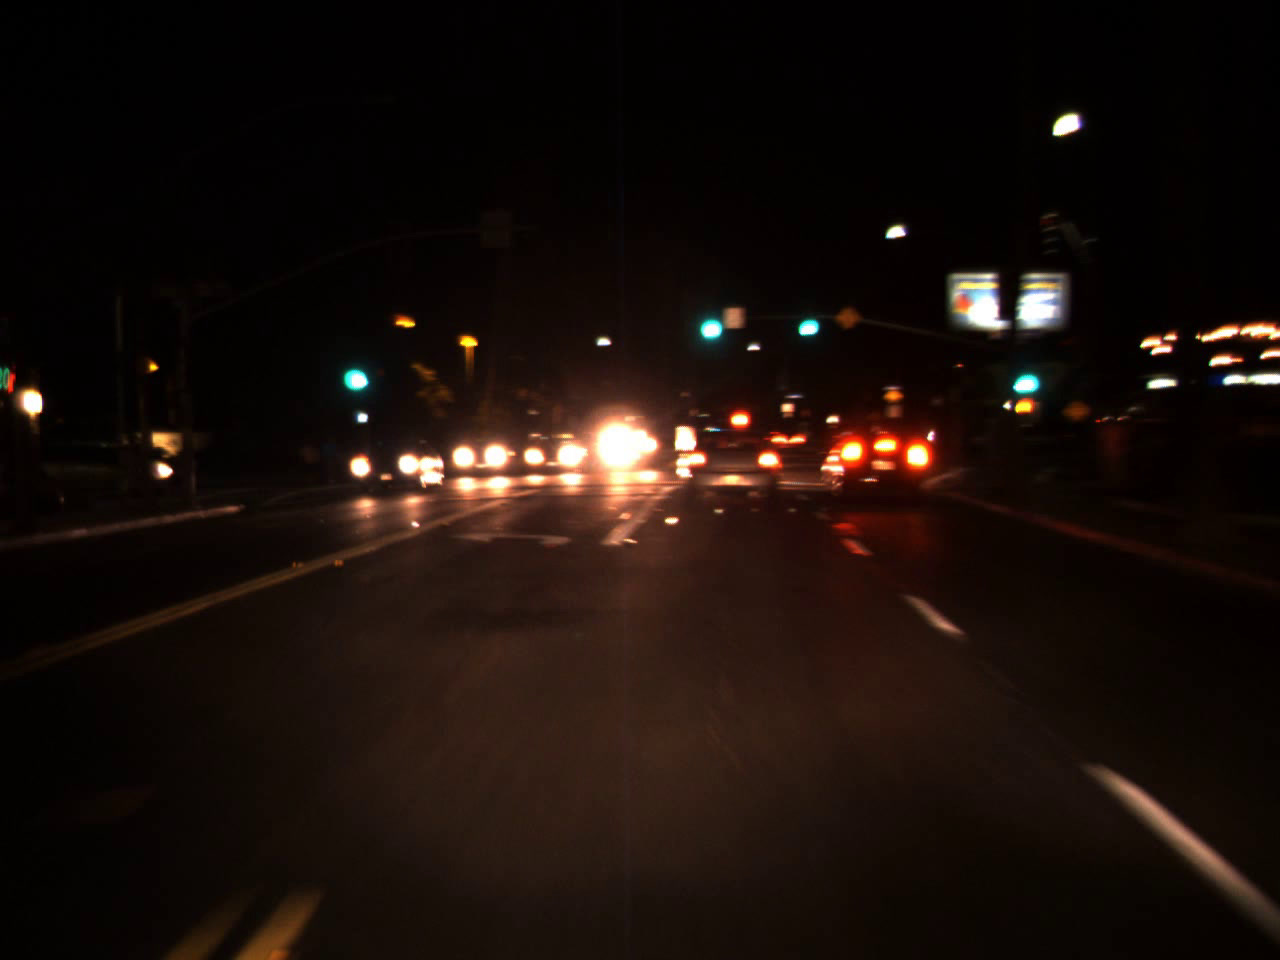go: (333, 340, 374, 400), (1002, 348, 1045, 402), (692, 301, 728, 342), (791, 301, 823, 340)
